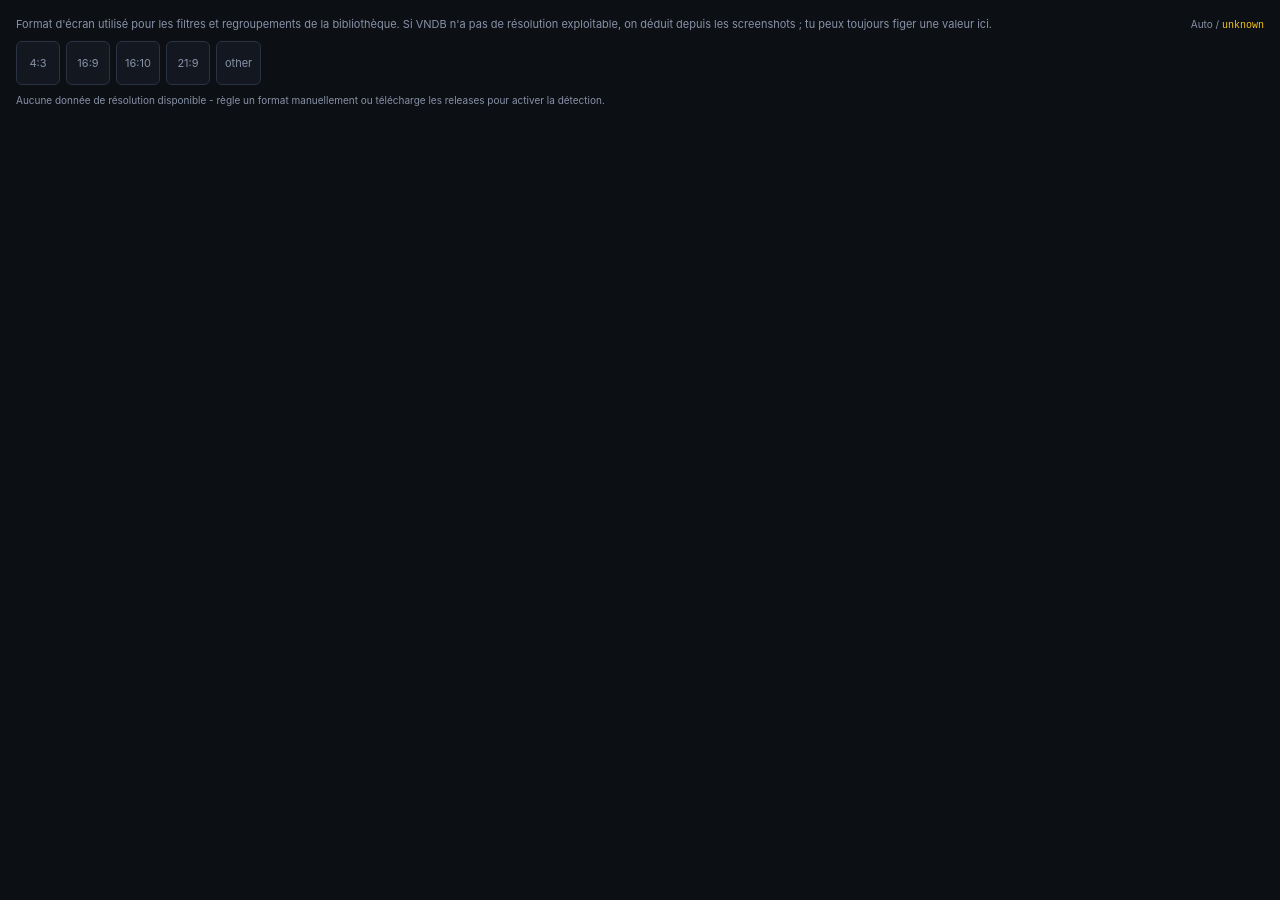
Test: AspectOverrideControl › PATCHes a chosen aspect key, marks it active, and toasts saved
What coordinates should you click on to do the following:
click the button "16:9"
I would click on:
 (88, 63)
Its box is [66,41,110,85].
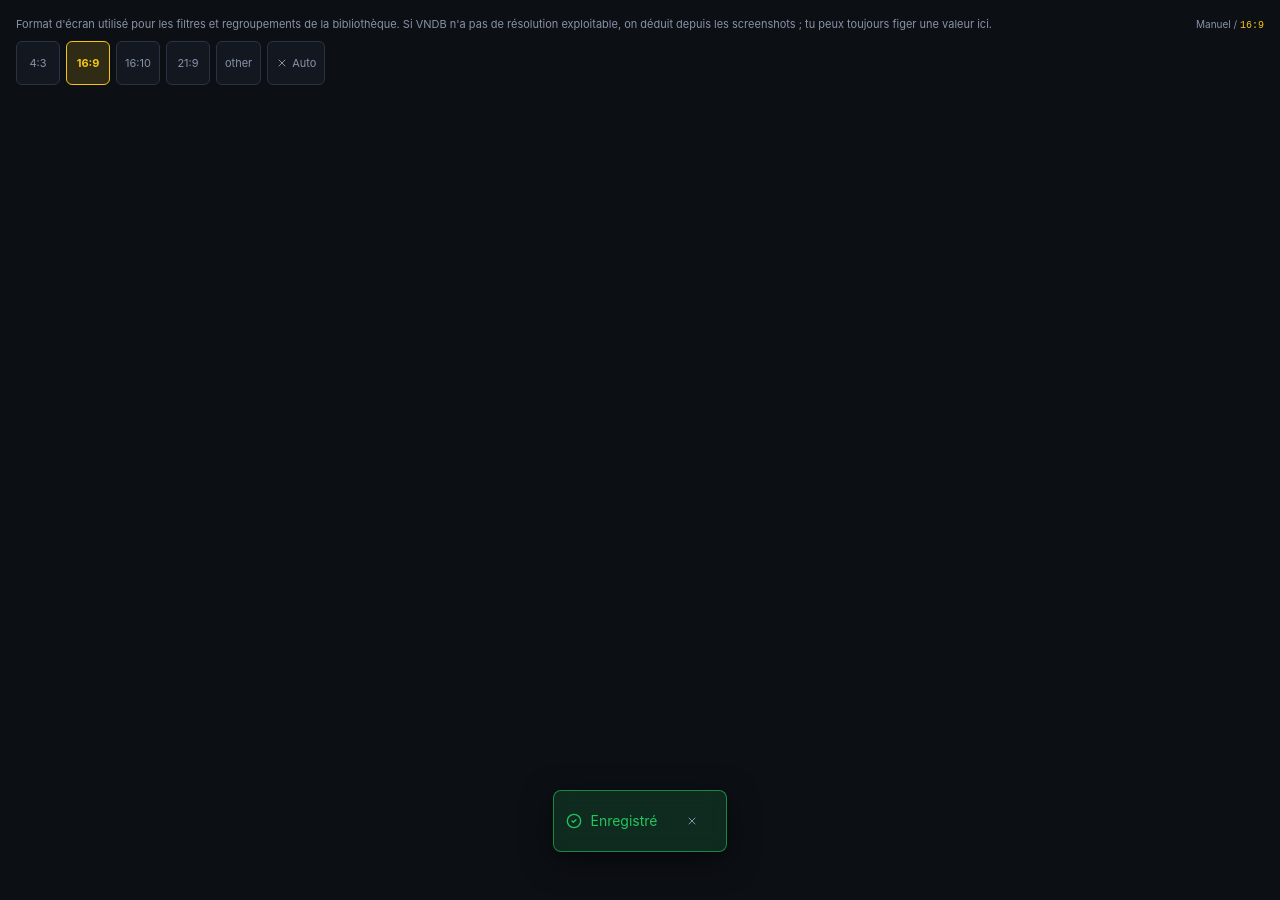
Expected: the text "Enregistré" is shown, [590,811,658,831]
